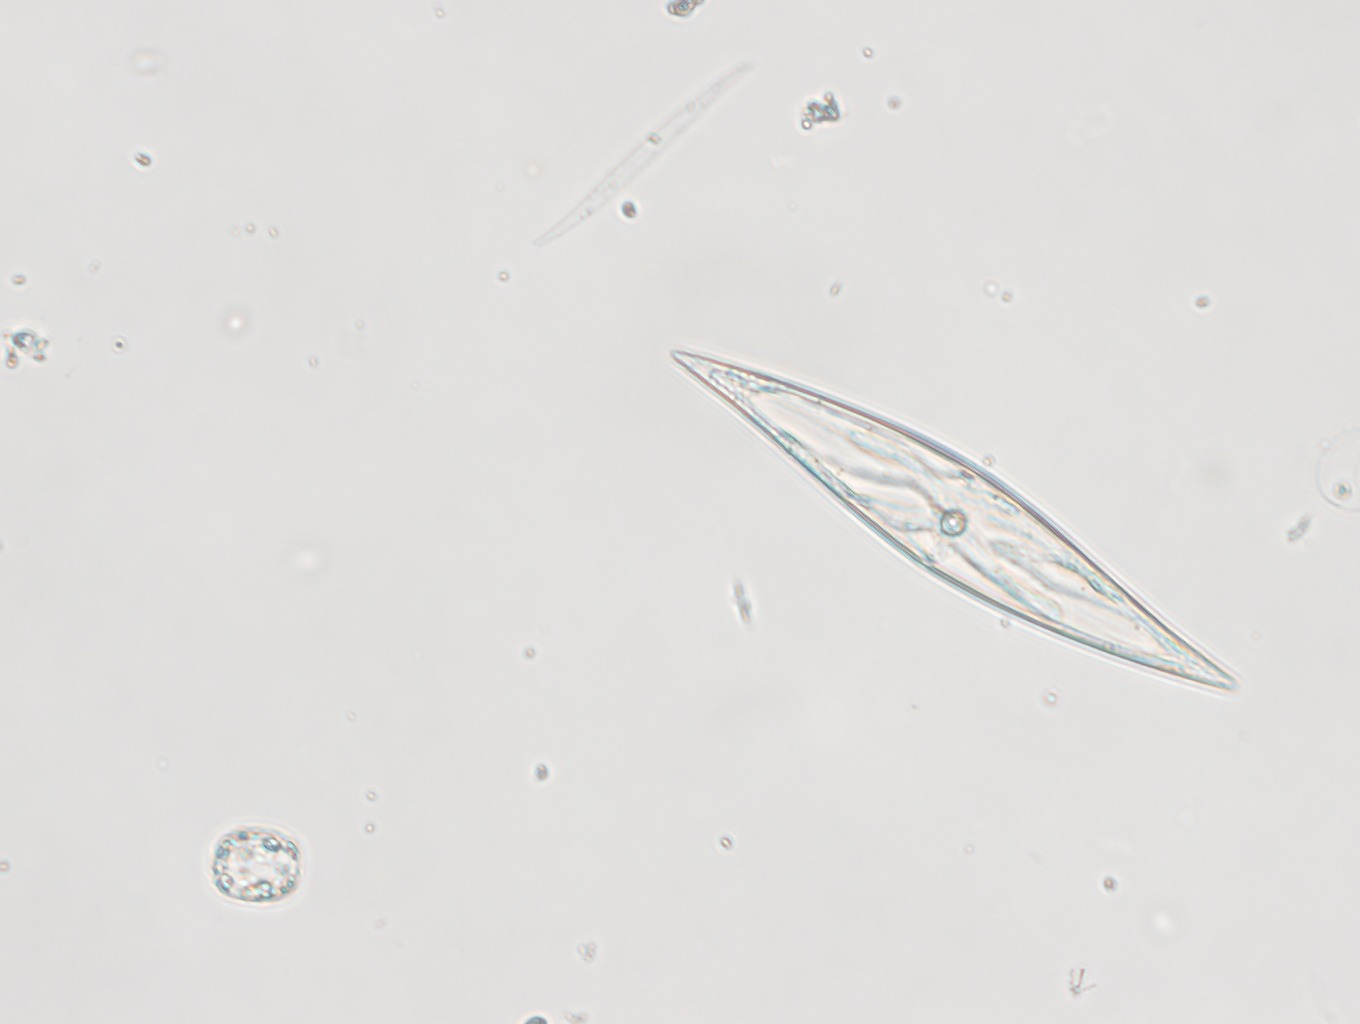pleurosigma pelagicum: (665, 349, 1239, 691), (522, 52, 758, 256)
